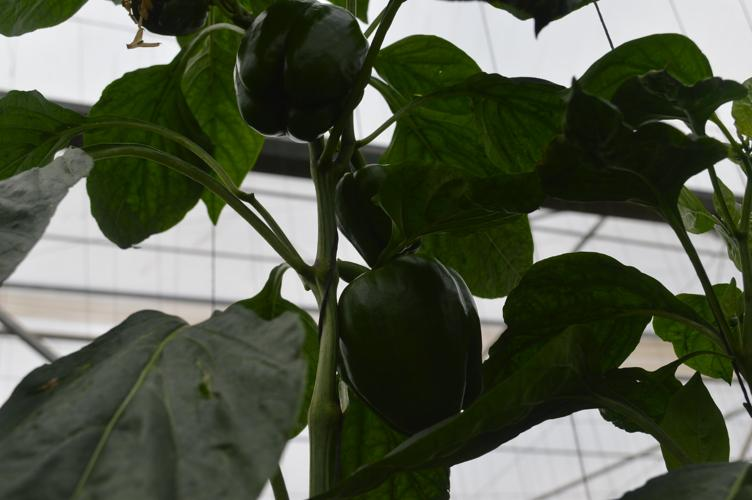BellPepper: (334, 256, 479, 427), (227, 6, 363, 136), (334, 164, 397, 257)
